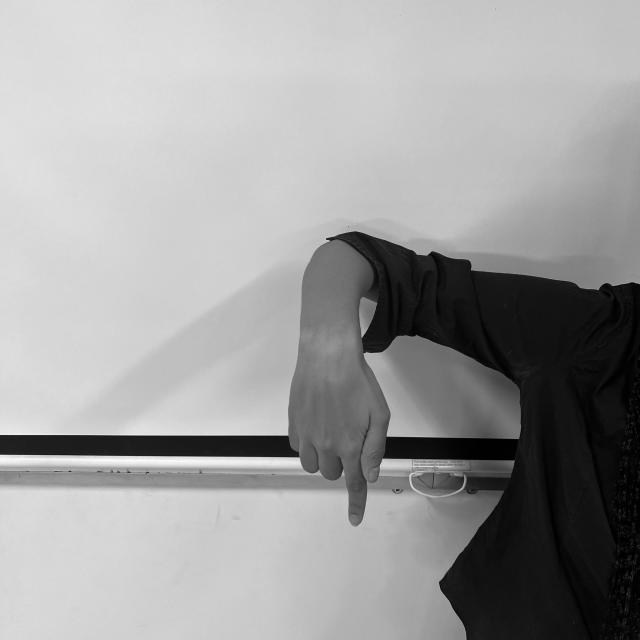Letra Q: (284, 358, 397, 530)
